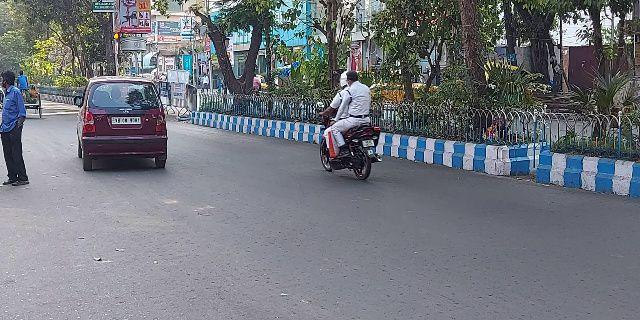Car: (71, 72, 171, 174)
Motorbike: (314, 66, 385, 182)
